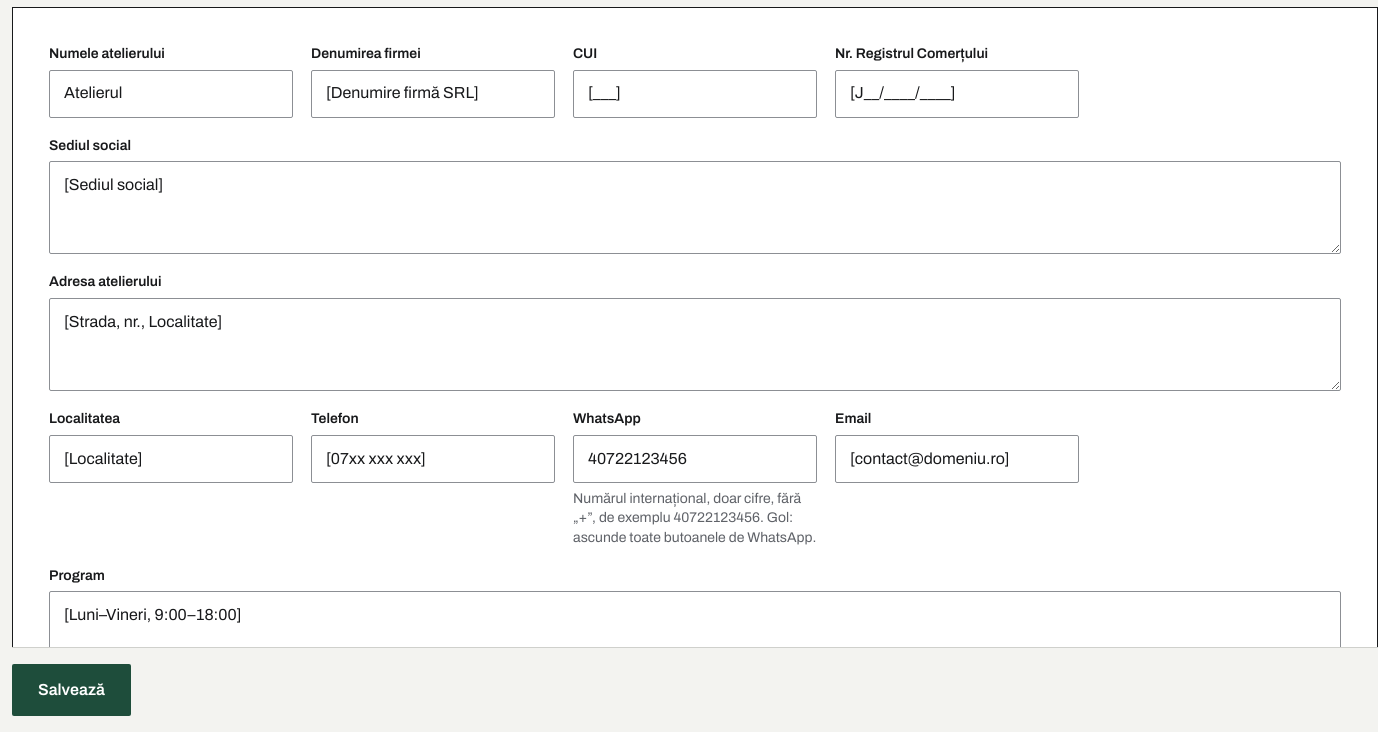
Test case: SettingsForm › submits every field to the action and shows the saved notice, keeping the typed values
Replace the text in the field labelled "Localitatea" with "Cluj-Napoca" at [171, 459], box [49, 435, 293, 483]
(page scrolled)
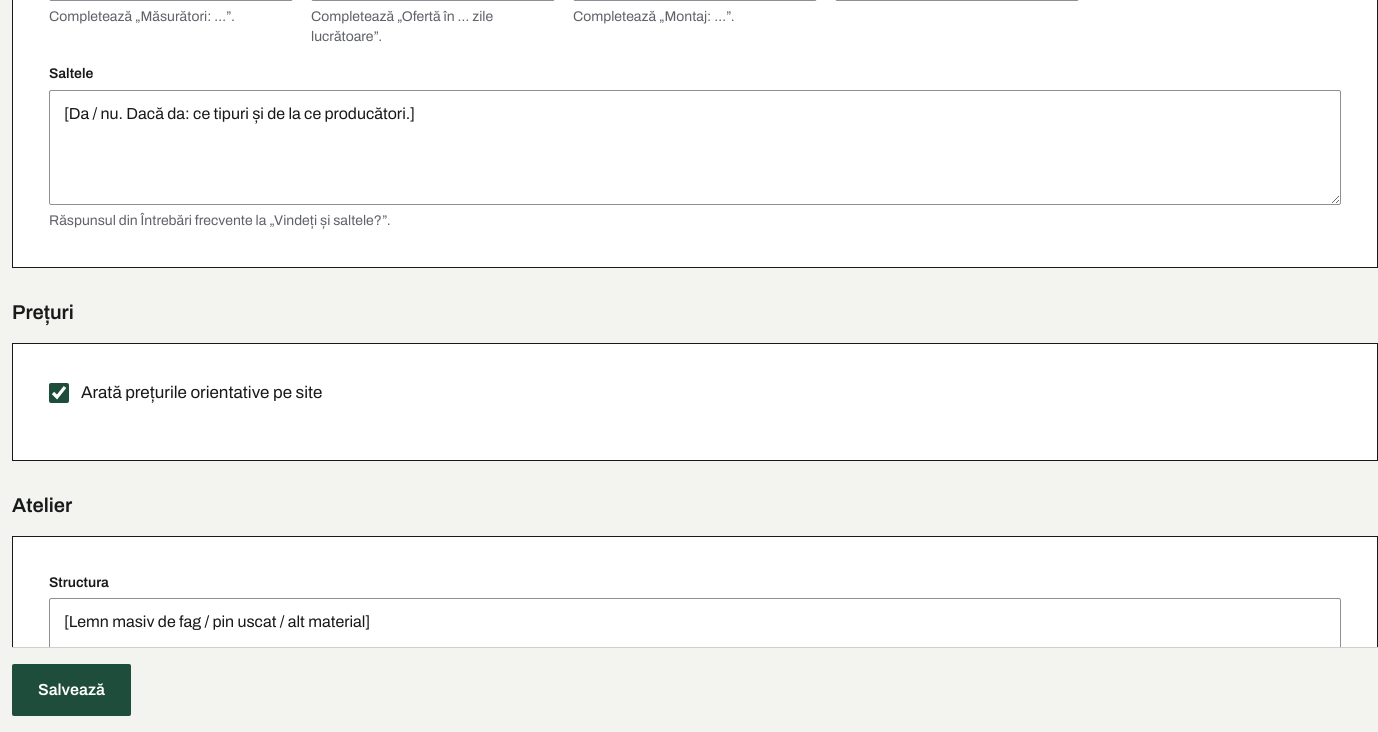
Click the checkbox labelled "Arată prețurile orientative pe site" at [59, 393], box [49, 383, 69, 403]
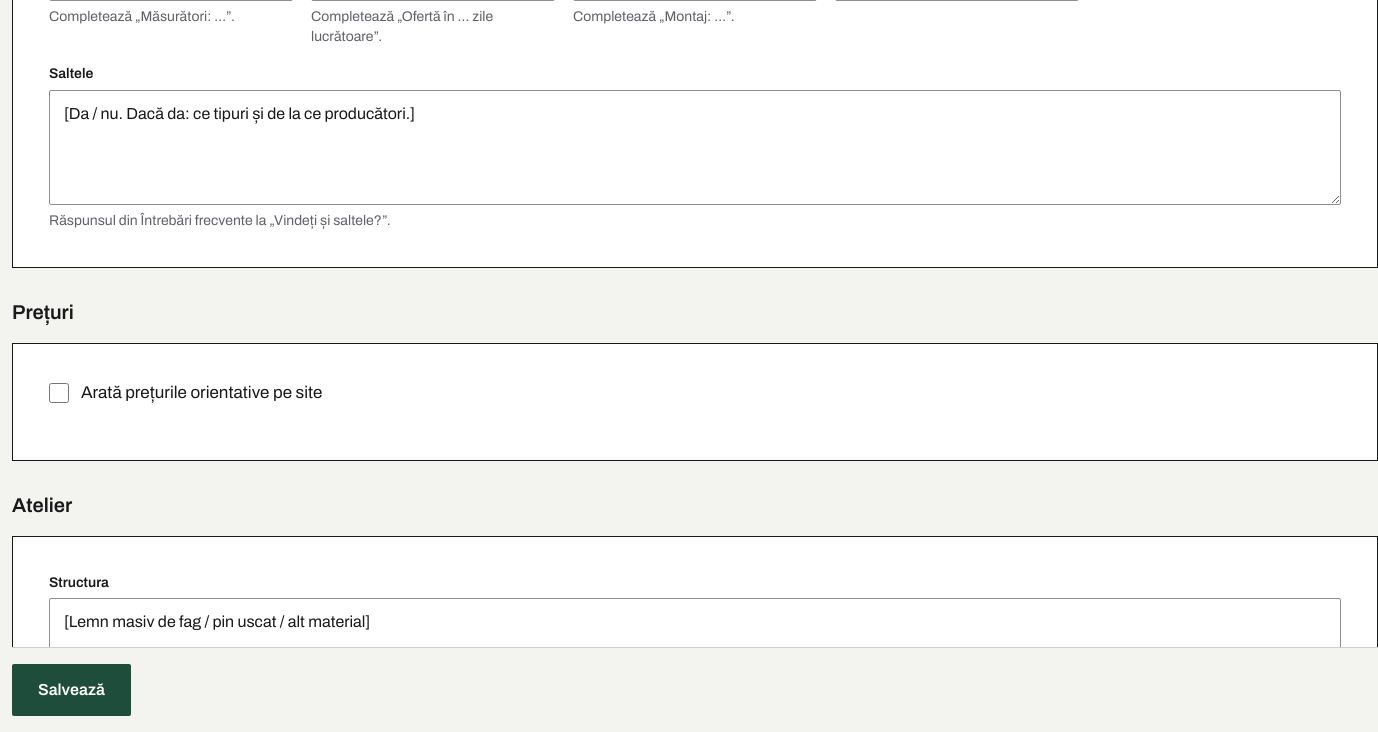
Click the button "Salvează" at [72, 690], box [12, 664, 131, 716]
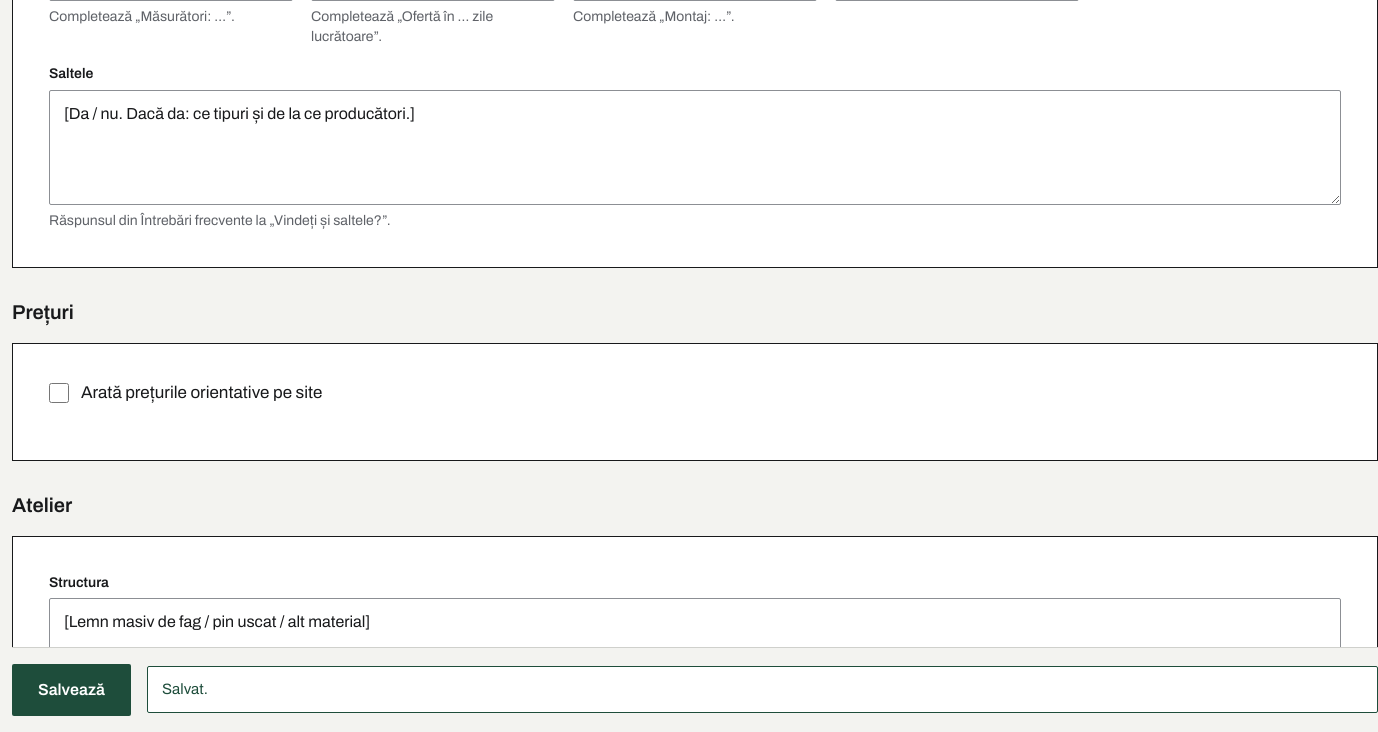
Now the checkbox labelled "Arată prețurile orientative pe site" is not checked, box [49, 383, 69, 403]
Now the message reads "Salvat.", box [162, 682, 208, 698]
